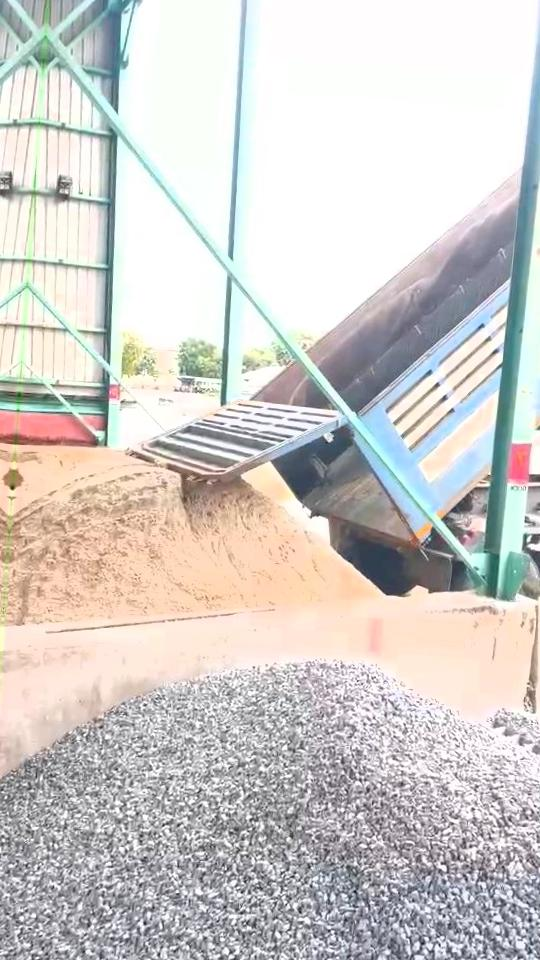gravel: (0, 662, 540, 960), (492, 708, 540, 763)
sand: (6, 454, 379, 623), (15, 446, 123, 493), (245, 463, 292, 500)
